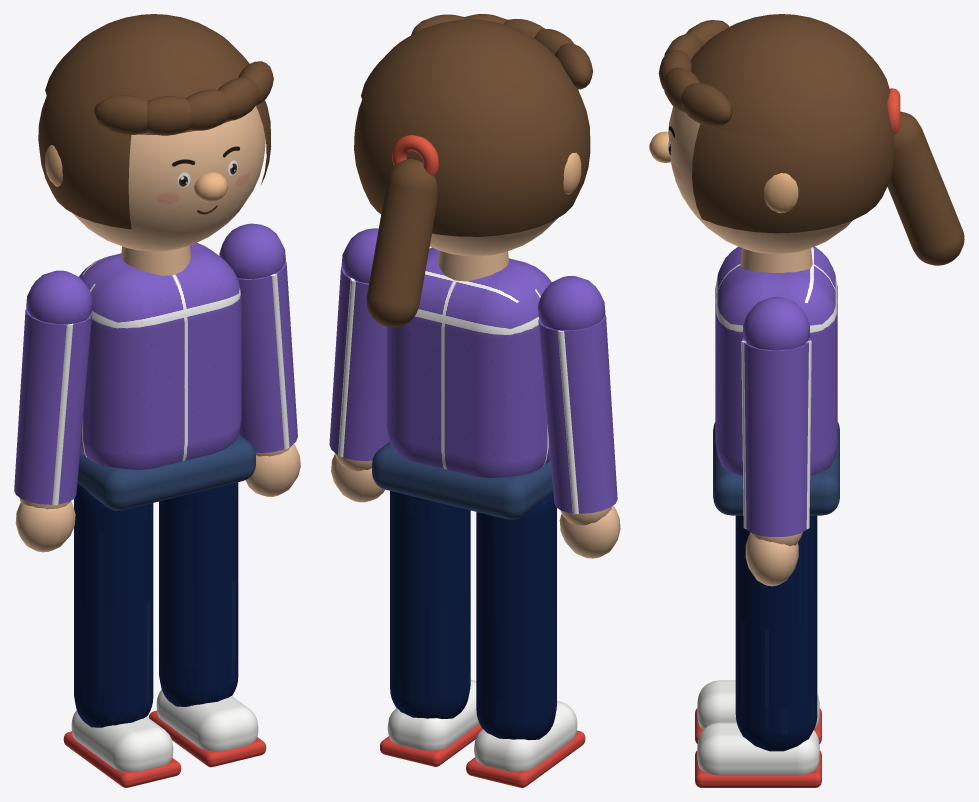
The model's file is kisi-ogrenci.glb.
3 renders of one model, left to right at view 1: azimuth 30°, elevation 25°; view 2: azimuth 150°, elevation 25°; view 3: azimuth 270°, elevation 25°, orthographic.
Parts seen in each view (by area): view 1: bas, govde, bacakL, bacakR, kolL, kolR; view 2: bas, govde, bacakL, bacakR, kolL, kolR; view 3: bas, bacakR, govde, kolR, bacakL.
Part boxes in pixels (box(x1,y1,x2,y2)): bas: box(38, 14, 273, 251); govde: box(77, 242, 255, 510); bacakL: box(63, 484, 181, 787); bacakR: box(148, 482, 266, 767); kolL: box(14, 270, 92, 552); kolR: box(219, 223, 300, 496); bas: box(354, 14, 592, 327); govde: box(372, 247, 553, 519); bacakL: box(466, 492, 585, 787); bacakR: box(380, 491, 482, 766); kolL: box(538, 276, 620, 558); kolR: box(329, 228, 389, 502); bas: box(649, 14, 964, 265); bacakR: box(695, 515, 821, 787); govde: box(713, 246, 839, 515); kolR: box(741, 297, 811, 586); bacakL: box(695, 680, 821, 743).
Bounding box in the file's own units: 0.6865 × 1.69 × 0.6602.
12 materials, 3 textured.
